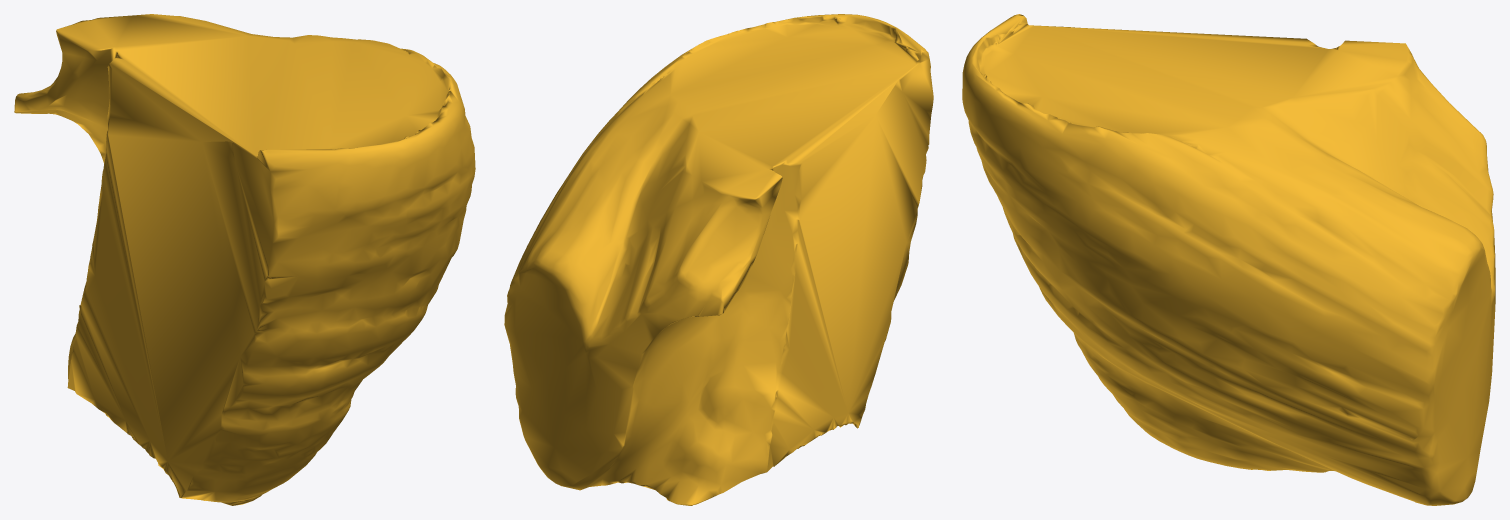
File: nervoso-pons-l.glb
3 renders of one model, left to right at view 1: azimuth 30°, elevation 25°; view 2: azimuth 150°, elevation 25°; view 3: azimuth 270°, elevation 25°, orthographic. The views are drawn at different scales.
Parts seen in each view (by area): view 1: Pons.l; view 2: Pons.l; view 3: Pons.l.
Boxes of the visible parts, x1,y1,x2,y2 form: Pons.l: (14,14,475,505); Pons.l: (504,14,933,505); Pons.l: (962,14,1495,505).
Size of the model in its own units: 0.0206 by 0.0278 by 0.0334.
